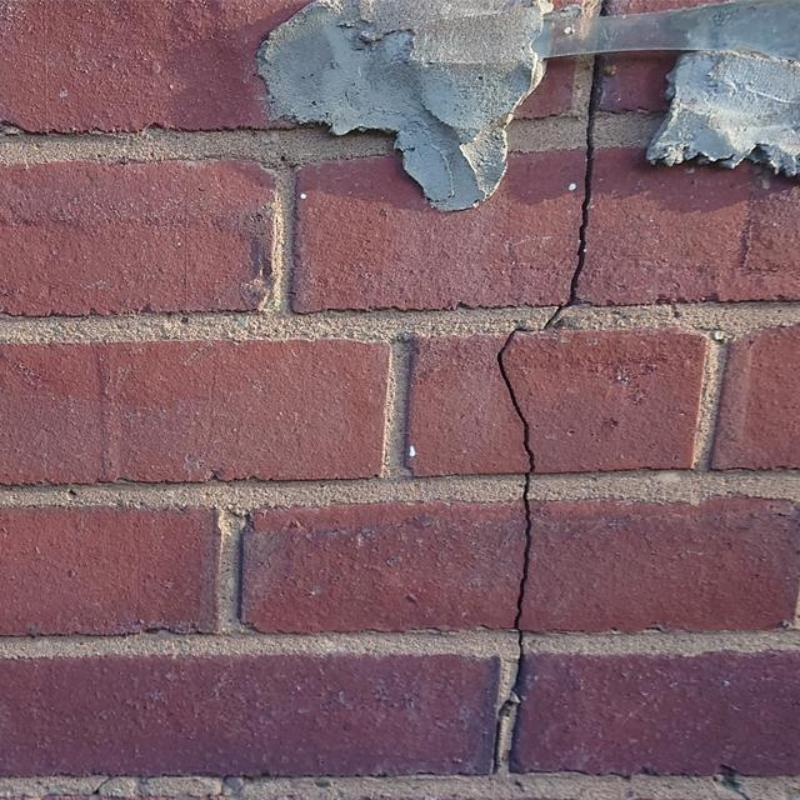pothole: (541, 53, 607, 330), (496, 328, 535, 629), (491, 629, 526, 775)
